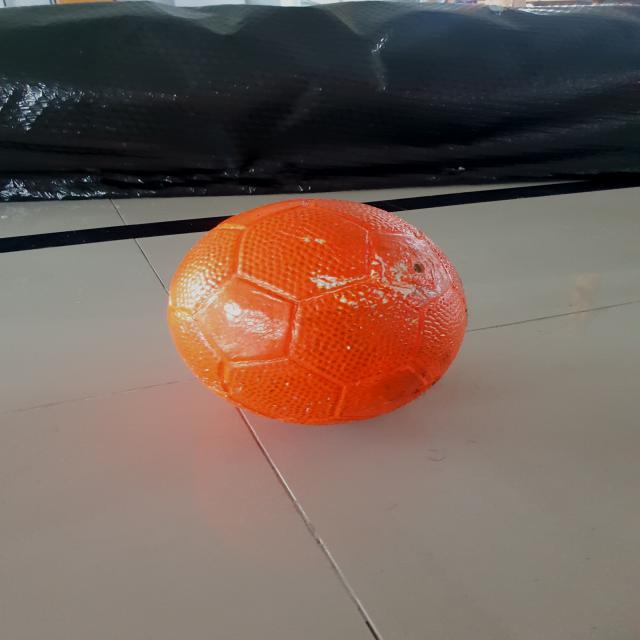bola: (156, 189, 478, 425)
